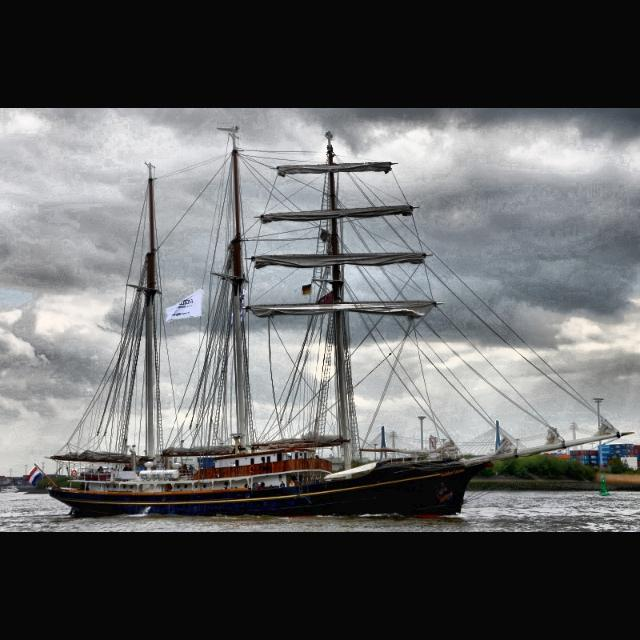sailing_vessel: (46, 126, 636, 518)
